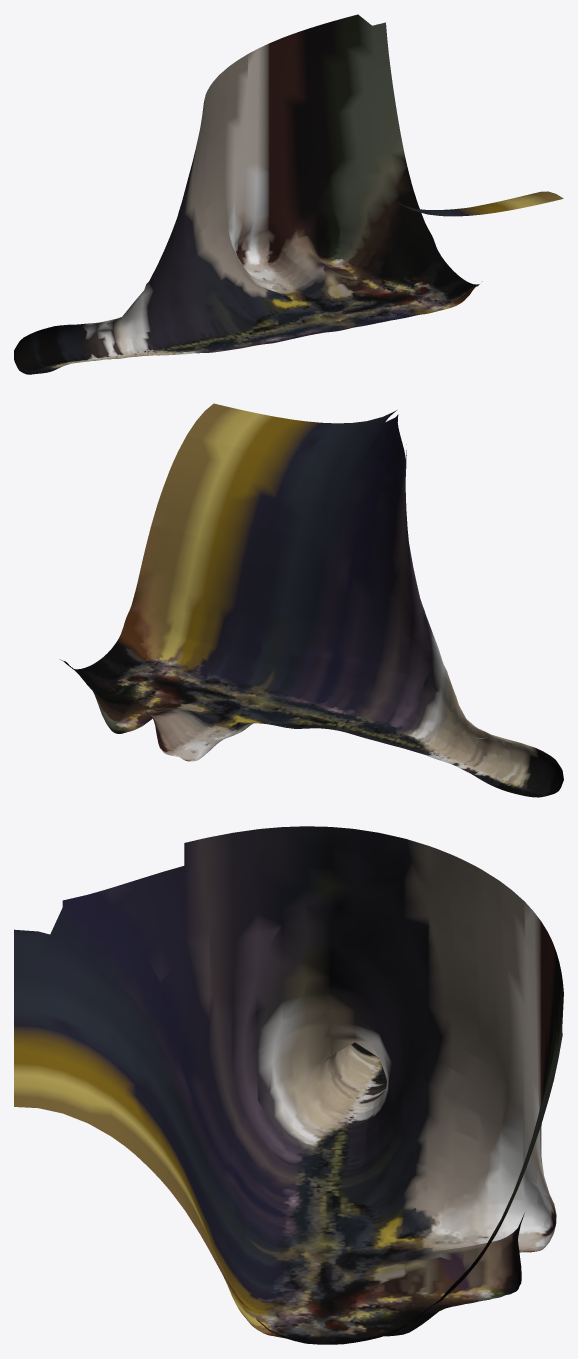
The model's file is ea37a01f-403f-48d8-a6de-e6a6c1fcea68.glb.
The picture shows the model from 3 angles, top to bottom: view 1: azimuth 30°, elevation 25°; view 2: azimuth 150°, elevation 25°; view 3: azimuth 270°, elevation 25°; orthographic projection. The views are drawn at different scales.
Parts seen in each view (by area): view 1: ea37a01f-403f-48d8-a6de-e6a6c1fcea68; view 2: ea37a01f-403f-48d8-a6de-e6a6c1fcea68; view 3: ea37a01f-403f-48d8-a6de-e6a6c1fcea68.
Boxes of the visible parts, x1,y1,x2,y2 form: ea37a01f-403f-48d8-a6de-e6a6c1fcea68: (14,14,563,374); ea37a01f-403f-48d8-a6de-e6a6c1fcea68: (59,403,563,797); ea37a01f-403f-48d8-a6de-e6a6c1fcea68: (14,826,563,1344).
Size of the model in its own units: 1.07 by 0.5263 by 0.7712.
